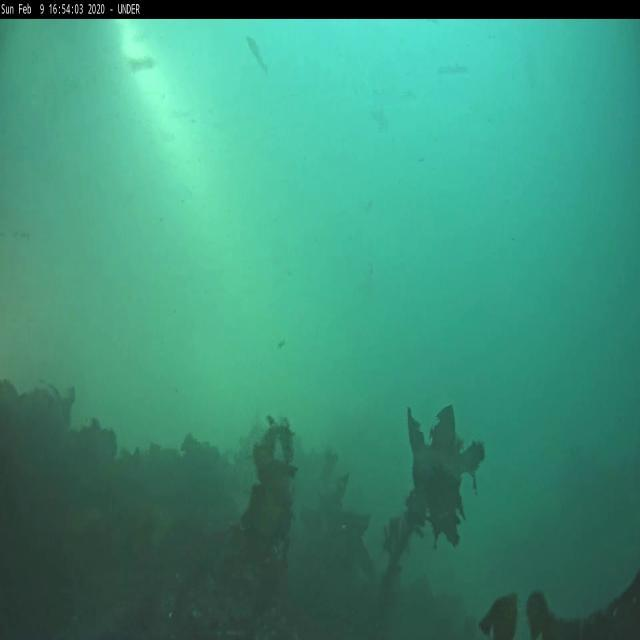fish: (245, 33, 269, 75)
